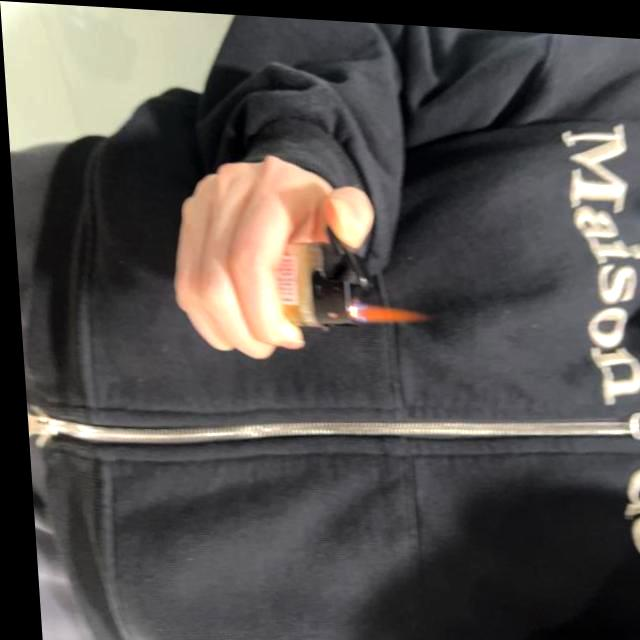fire: (352, 298, 424, 322)
